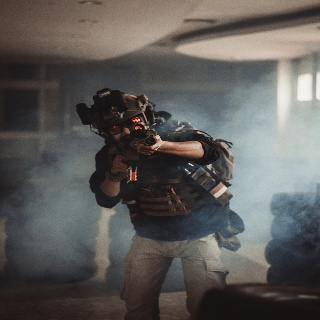rifle: (108, 123, 164, 184)
